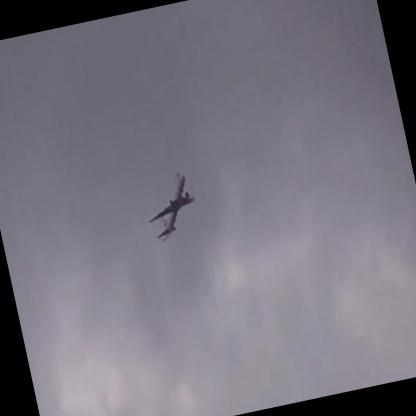plane: (138, 168, 205, 246)
